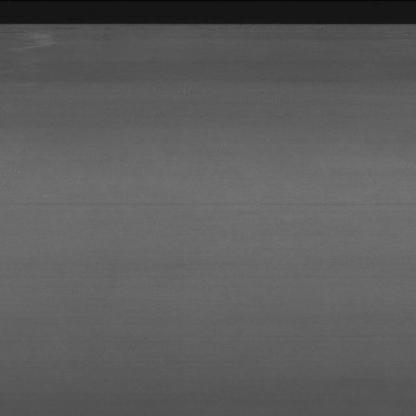silk_spot: (9, 26, 68, 58)
